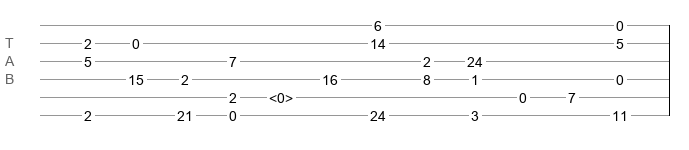0: (132, 36, 140, 46), (229, 108, 237, 118), (519, 90, 527, 100), (616, 72, 624, 82), (616, 18, 624, 28)
1: (471, 72, 479, 82)
11: (612, 108, 628, 118)
14: (370, 36, 386, 46)
15: (128, 72, 144, 82)
16: (322, 72, 338, 82)
2: (84, 36, 92, 46), (84, 108, 92, 118), (181, 72, 189, 82), (229, 90, 237, 100), (423, 54, 431, 64)
21: (177, 108, 193, 118)
24: (370, 108, 386, 118), (467, 54, 483, 64)
3: (471, 108, 479, 118)
5: (84, 54, 92, 64), (616, 36, 624, 46)
6: (374, 18, 382, 28)
7: (229, 54, 237, 64), (568, 90, 576, 100)
8: (423, 72, 431, 82)
harmonic: (269, 90, 293, 100)
